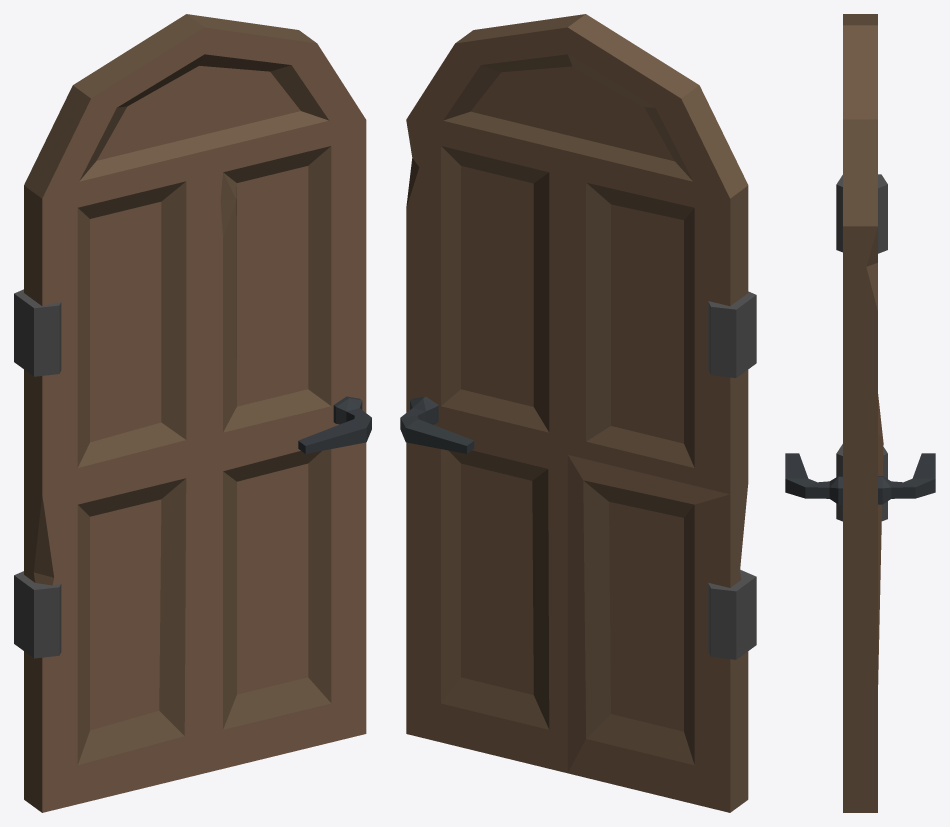
The model's file is SM_Bld_Village_Door_Hinge_02.glb.
3 renders of one model, left to right at view 1: azimuth 30°, elevation 25°; view 2: azimuth 150°, elevation 25°; view 3: azimuth 270°, elevation 25°, orthographic. The views are drawn at different scales.
Parts seen in each view (by area): view 1: SM_Bld_Village_Door_Hinge_02; view 2: SM_Bld_Village_Door_Hinge_02; view 3: SM_Bld_Village_Door_Hinge_02.
Boxes of the visible parts, box(x1,y1,x2,y2) form: SM_Bld_Village_Door_Hinge_02: box(14, 14, 371, 812); SM_Bld_Village_Door_Hinge_02: box(400, 14, 756, 812); SM_Bld_Village_Door_Hinge_02: box(785, 14, 935, 812).
Bounding box in the file's own units: 1.05 × 2.26 × 0.4324.
1 material, 1 textured.
